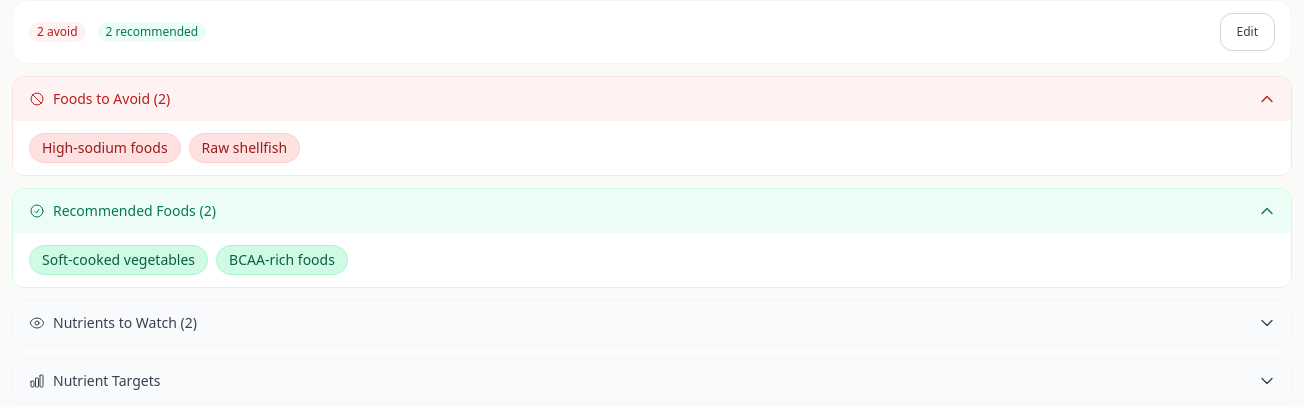
Scenario: DietPlanCard › reverts changes on cancel
Click the button "Edit": (1247, 32) x1=1220 y1=13 x2=1275 y2=51
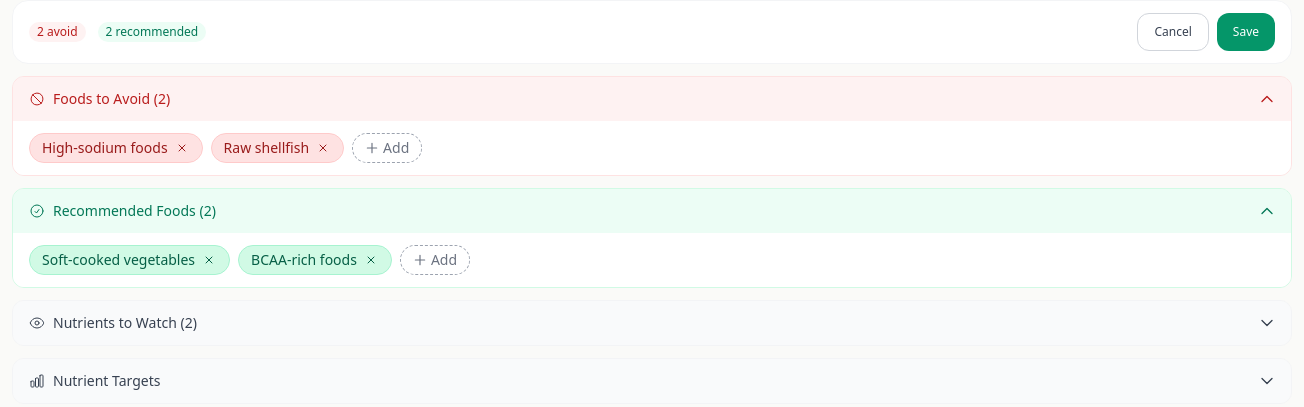
Remove an item
Click the button named "remove": (182, 148) x1=174 y1=140 x2=190 y2=156
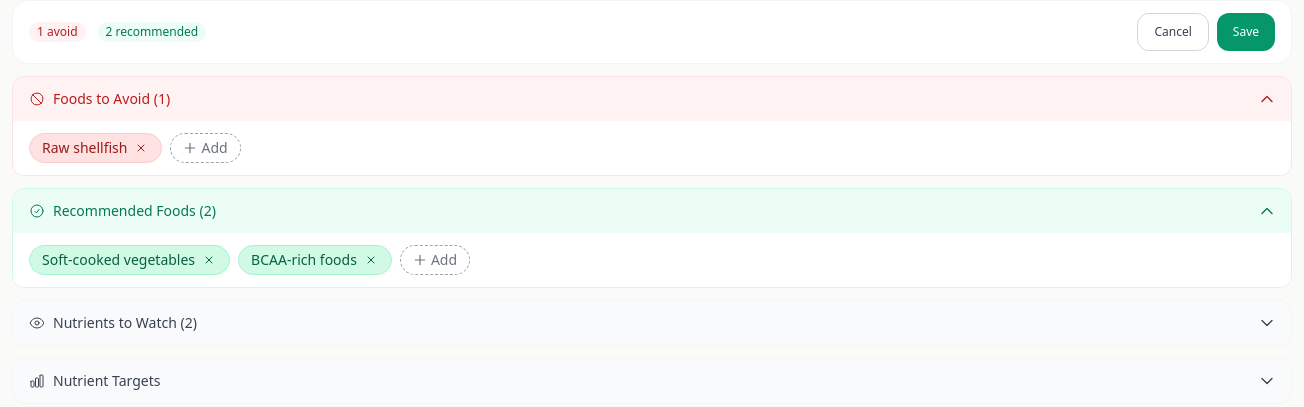
Click the button "Cancel": (1173, 32) x1=1138 y1=13 x2=1209 y2=51
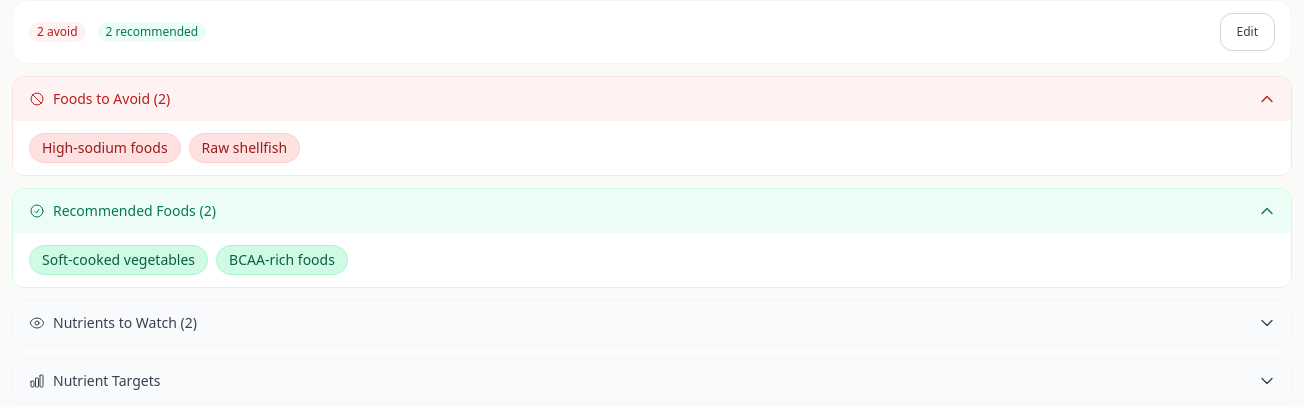
Expected: the text "Raw shellfish" is shown, x1=189 y1=133 x2=300 y2=163
Expected: the text "High-sodium foods" is shown, x1=29 y1=133 x2=181 y2=163
